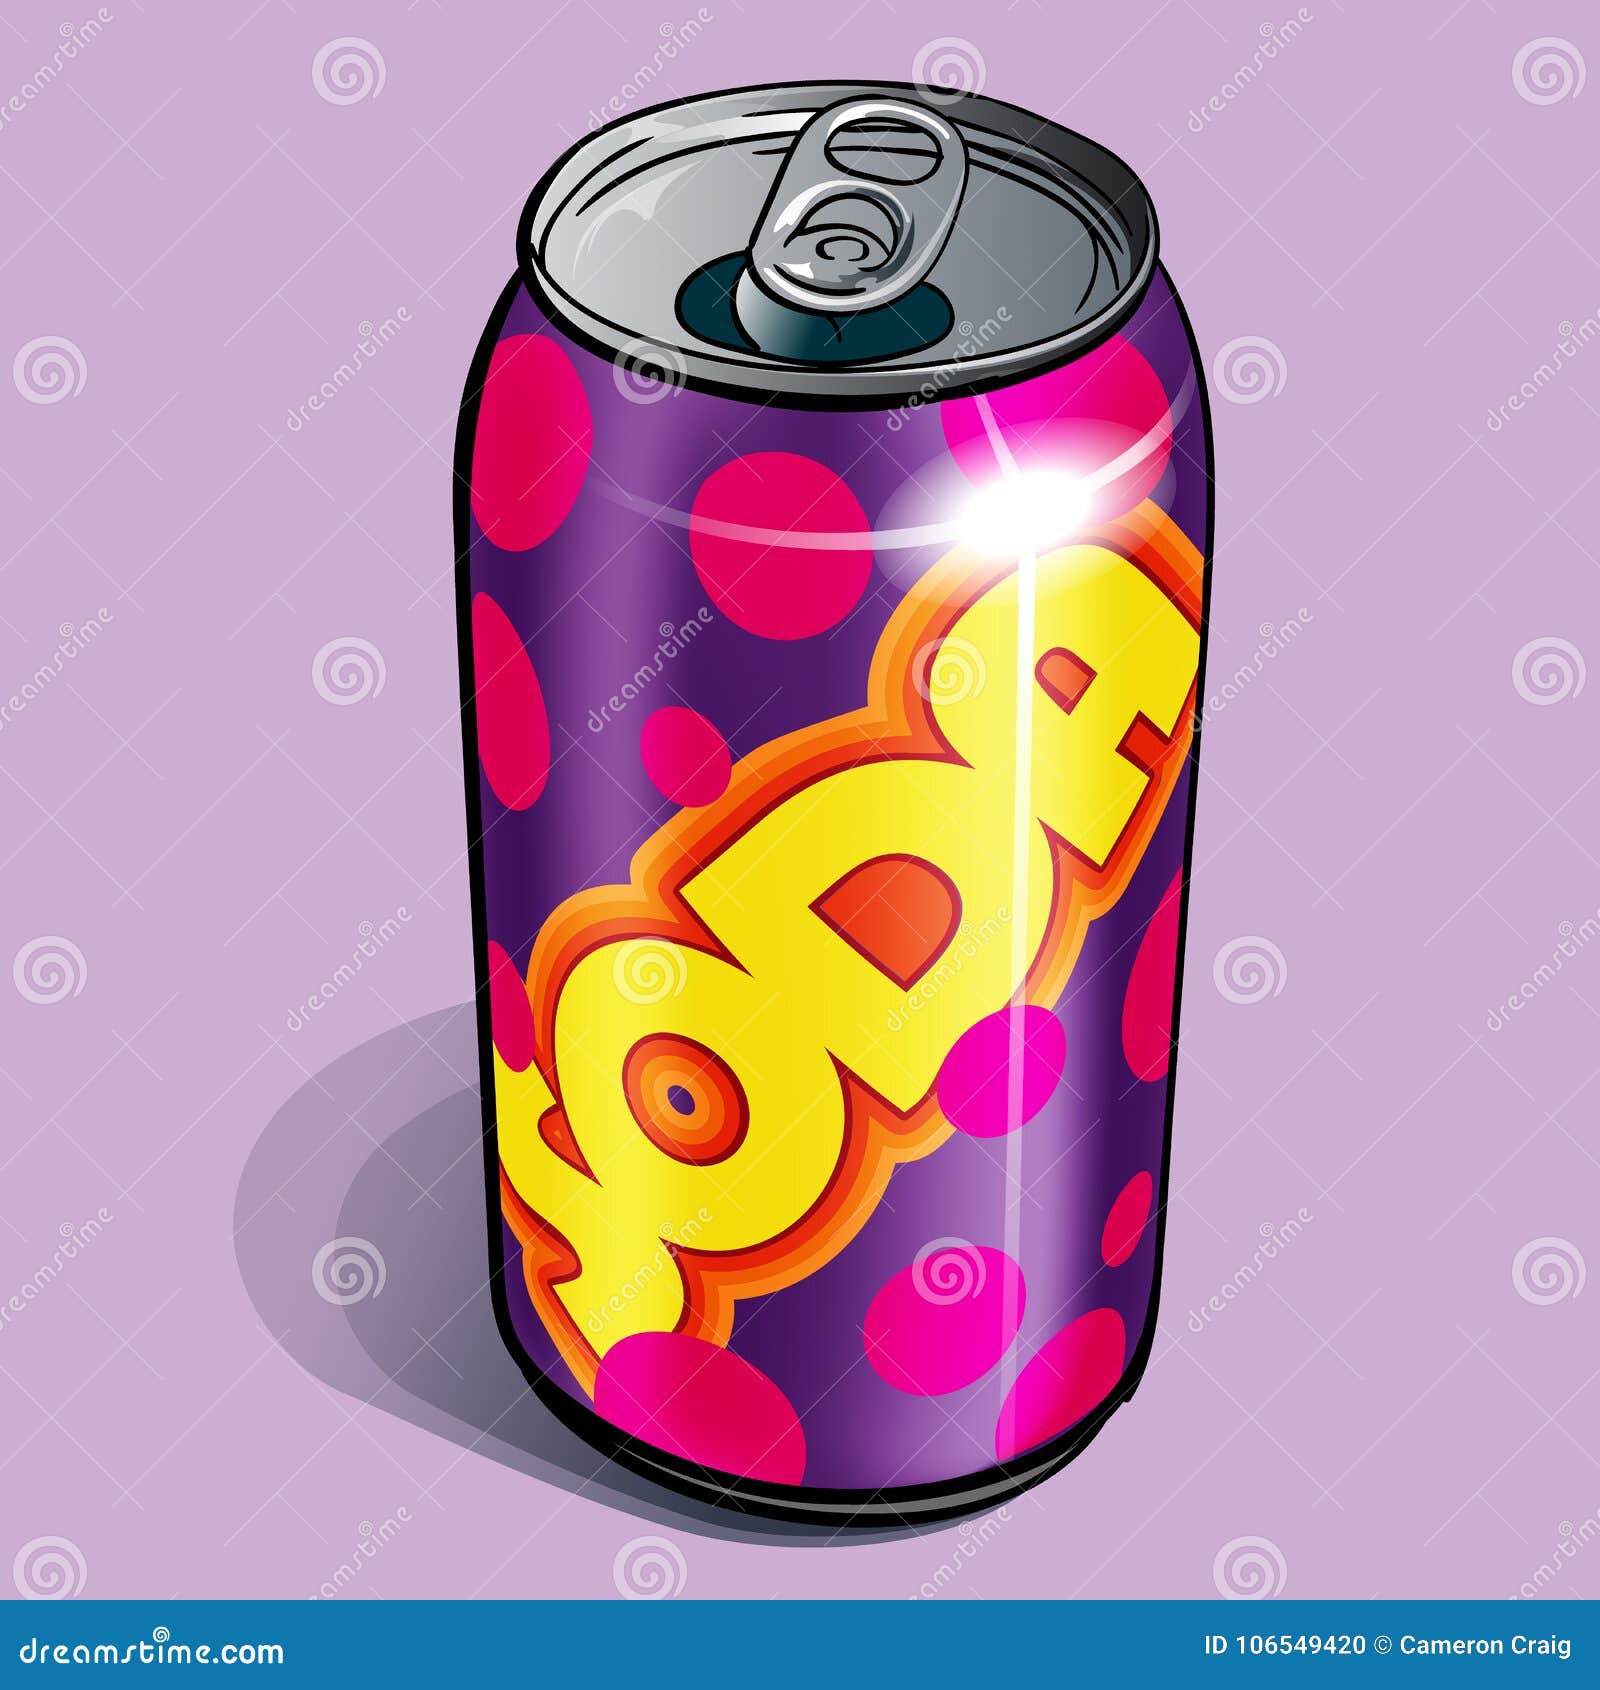can: (420, 68, 1280, 1562)
